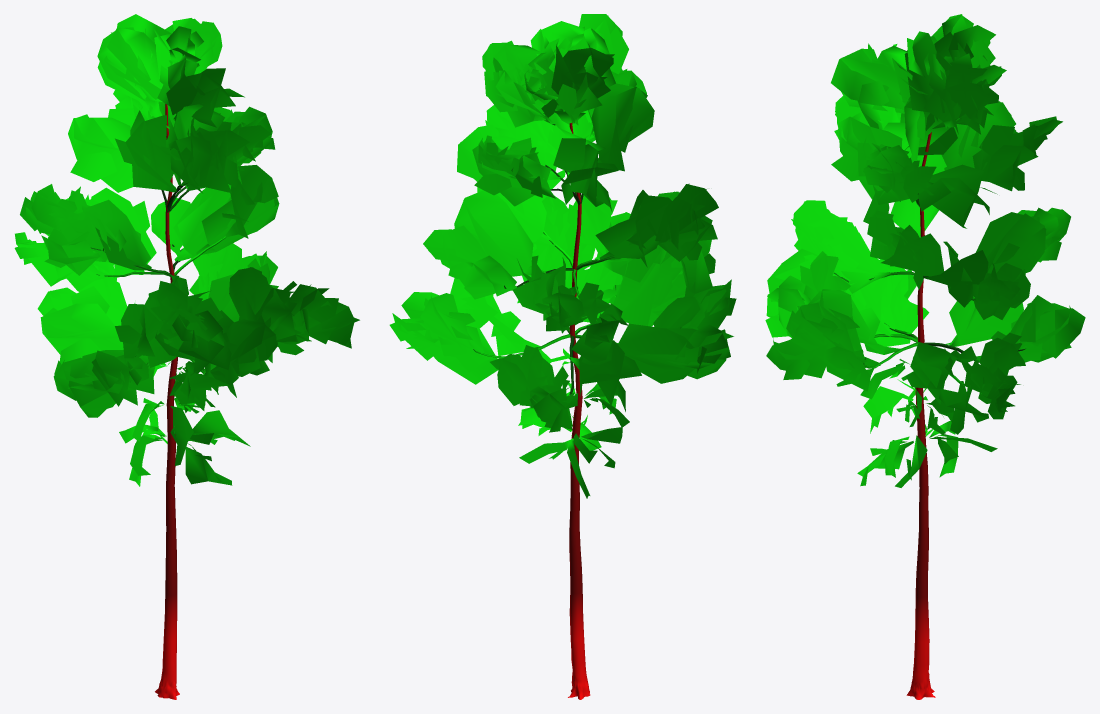
The model's file is Tree M2.FBX.
The picture shows the model from 3 angles, left to right: view 1: azimuth 30°, elevation 25°; view 2: azimuth 150°, elevation 25°; view 3: azimuth 270°, elevation 25°; orthographic projection.
Parts seen in each view (by area): view 1: M2_LOD1; view 2: M2_LOD1; view 3: M2_LOD1.
Boxes of the visible parts, x1=… form: M2_LOD1: x1=14, y1=14, x2=359, y2=699; M2_LOD1: x1=389, y1=14, x2=736, y2=699; M2_LOD1: x1=765, y1=14, x2=1085, y2=699.
Size of the model in its own units: 410 by 914 by 397.
